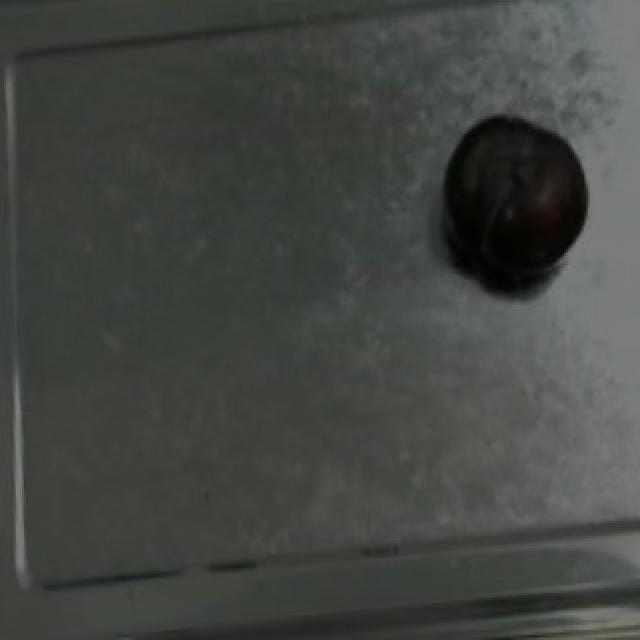Fruit: (430, 101, 606, 298)
